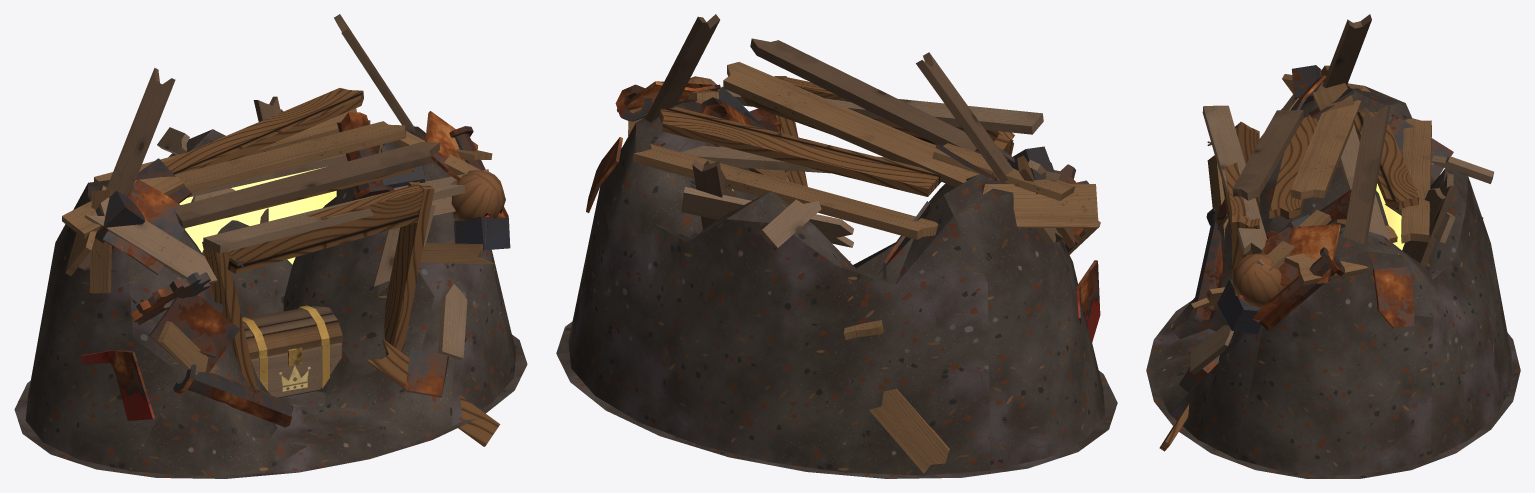
Rendered from Mystery_Scrap_Heap.glb.
3 views of the same model, side by side, from view 1: azimuth 30°, elevation 25°; view 2: azimuth 150°, elevation 25°; view 3: azimuth 270°, elevation 25° (orthographic). The views are drawn at different scales.
Visible parts, largest first — view 1: Mystery_Scrap_Heap; view 2: Mystery_Scrap_Heap; view 3: Mystery_Scrap_Heap.
Part boxes in pixels (left/top/right/bottom): Mystery_Scrap_Heap: left=14, top=14, right=527, bottom=478; Mystery_Scrap_Heap: left=556, top=14, right=1117, bottom=478; Mystery_Scrap_Heap: left=1146, top=14, right=1520, bottom=478.
Size of the model in its own units: 2.22 by 1.6 by 1.62.
Materials: 15 (12 with a texture image).
